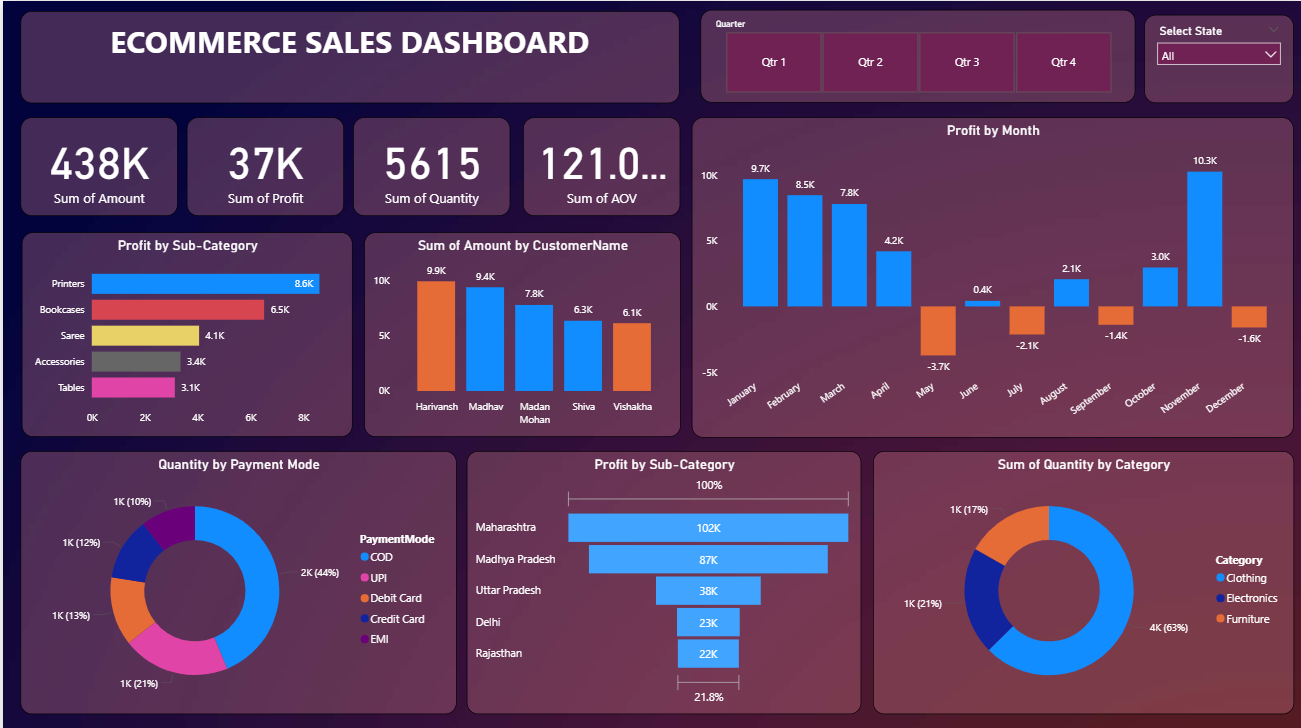

What the dashboard file says about the page in this screenshot:
{"tool":"powerbi","page":{"name":"Page 1","canvas":[1600,1000],"ordinal":0},"visuals":[{"type":"card","fields":{"Values":["Details.Sum of Anount"]},"box":[22.3,142.4,193.8,121.8],"z":0},{"type":"textbox","box":[22.3,12,811.3,113.2],"z":1000},{"type":"columnChart","title":"Profit by Month","fields":{"Y":["Details.Sum of Profit"],"Category":["Orders.Order Date.Variation.Date Hierarchy.Month"]},"box":[847.3,142.4,741,394.5],"z":2000},{"type":"barChart","title":"Profit by Sub-Category","fields":{"Category":["Details.Sub-Category"],"Y":["Details.Profit"]},"box":[22.6,285,407.2,251.8],"z":3000},{"type":"donutChart","fields":{"Category":["Details.Category"],"Y":["Details.Quantity"]},"box":[1070.3,554,518,324.2],"z":4000},{"type":"donutChart","title":"Quantity by Payment Mode","fields":{"Category":["Details.PaymentMode"],"Y":["Details.Quantity"]},"box":[22.3,554,536.9,324.2],"z":5000},{"type":"funnel","title":"Profit by Sub-Category","fields":{"Category":["Orders.State"],"Y":["Details.Amount"]},"box":[571.2,554,485.4,324.2],"z":6000},{"type":"columnChart","fields":{"Category":["Orders.CustomerName"],"Y":["Details.Amount"]},"box":[444.3,284.7,389.4,252.1],"z":7000},{"type":"card","fields":{"Values":["Details.Sum of Profit"]},"box":[226.4,142.4,193.8,121.8],"z":8000},{"type":"card","fields":{"Values":["Details.AOV"]},"box":[639.8,142.4,193.8,121.8],"z":9000},{"type":"card","fields":{"Values":["Details.Sum of Quantity"]},"box":[430.5,142.4,193.8,121.8],"z":10000},{"type":"slicer","fields":{"Values":["Orders.Order Date.Variation.Date Hierarchy.Quarter"]},"box":[858.1,10.6,535.4,114.6],"z":11000},{"type":"slicer","fields":{"Values":["Orders.State"]},"box":[1404,16.6,184,108.6],"z":12000}]}

Visuals, with their boxes on the page's 1600x1000 design canvas (x1, y1, x2, y2). These are canvas units, not pixel positions in the 1301x728 screenshot, which may show the page scaled, cropped or inside an application window:
card - Details.Sum of Anount: bbox=[22, 142, 216, 264]
textbox: bbox=[22, 12, 834, 125]
"Profit by Month" columnChart: bbox=[847, 142, 1588, 537]
"Profit by Sub-Category" barChart: bbox=[23, 285, 430, 537]
donutChart - Details.Category x Details.Quantity: bbox=[1070, 554, 1588, 878]
"Quantity by Payment Mode" donutChart: bbox=[22, 554, 559, 878]
"Profit by Sub-Category" funnel: bbox=[571, 554, 1057, 878]
columnChart - Orders.CustomerName x Details.Amount: bbox=[444, 285, 834, 537]
card - Details.Sum of Profit: bbox=[226, 142, 420, 264]
card - Details.AOV: bbox=[640, 142, 834, 264]
card - Details.Sum of Quantity: bbox=[430, 142, 624, 264]
slicer - Orders.Order Date.Variation.Date Hierarchy.Quarter: bbox=[858, 11, 1394, 125]
slicer - Orders.State: bbox=[1404, 17, 1588, 125]
